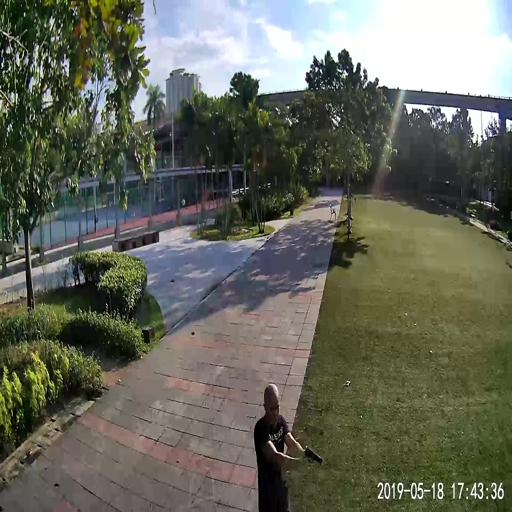pistol: (303, 442, 323, 469)
